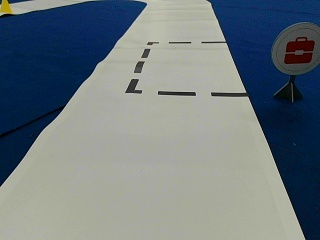company: (271, 20, 319, 75)
